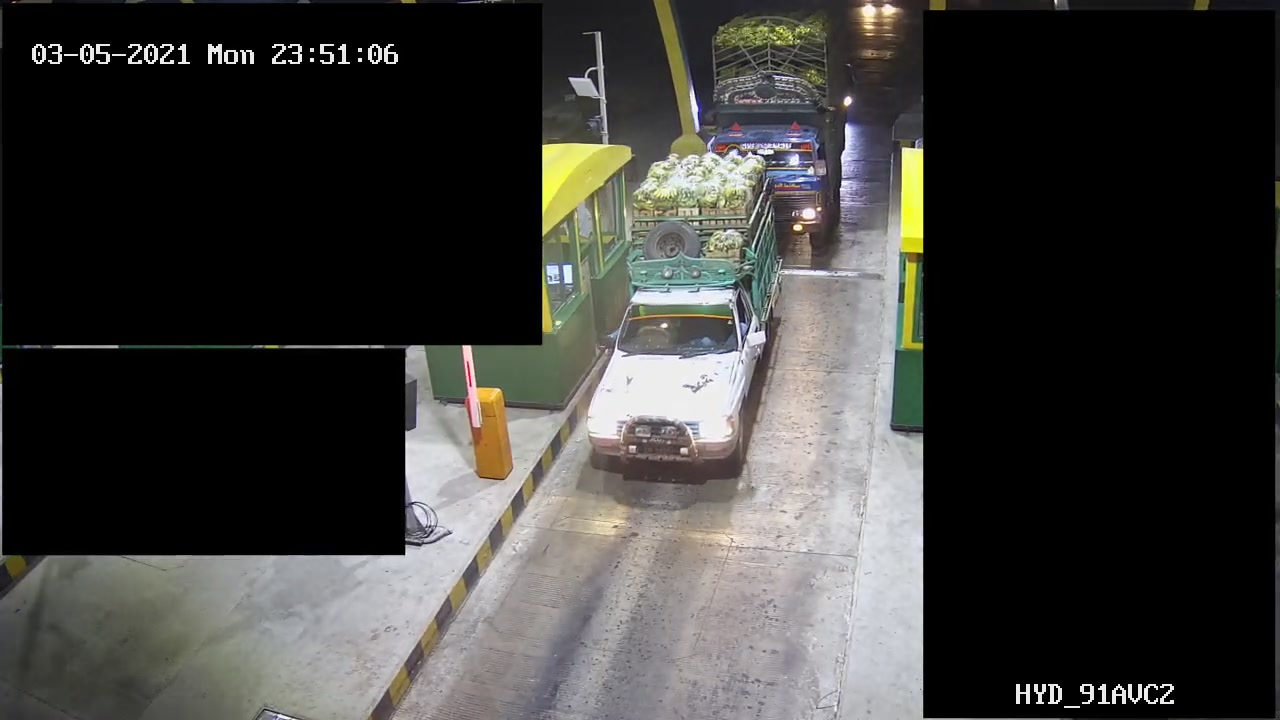F1: (586, 160, 779, 473)
